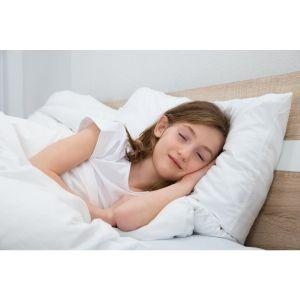sleep: (30, 99, 233, 234), (157, 123, 216, 173)
